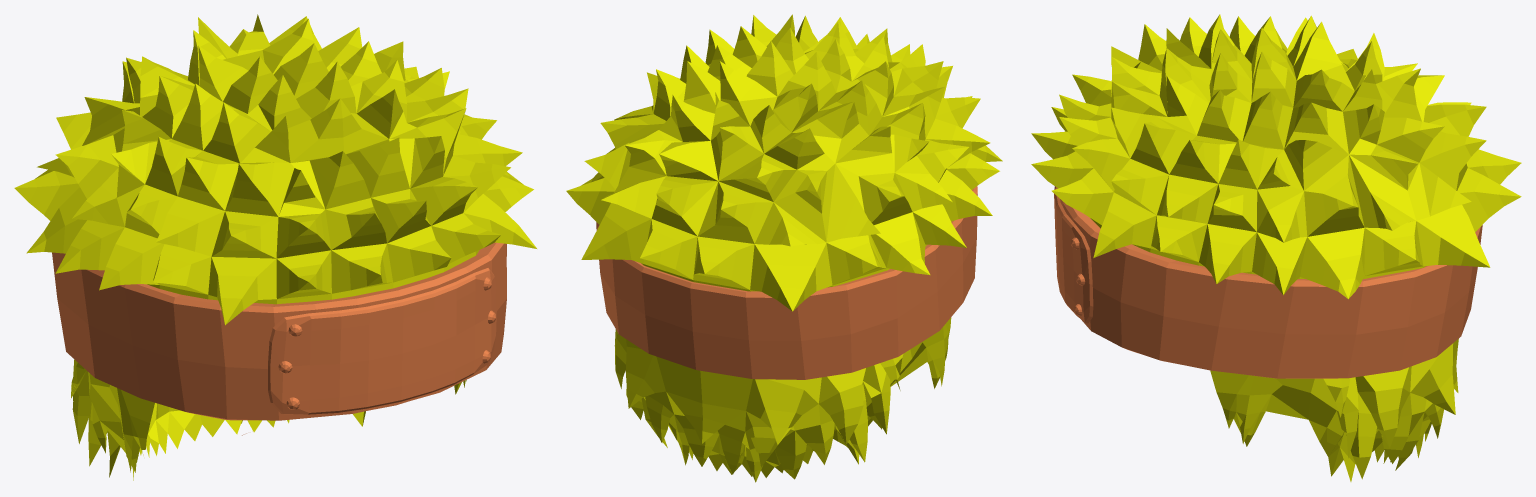
The model's file is naruto.fbx.
3 renders of one model, left to right at view 1: azimuth 30°, elevation 25°; view 2: azimuth 150°, elevation 25°; view 3: azimuth 270°, elevation 25°, orthographic. The views are drawn at different scales.
Parts seen in each view (by area): view 1: rambut, ikat_kepala; view 2: rambut, ikat_kepala; view 3: rambut, ikat_kepala.
Part boxes in pixels (x1,y1,x2,y2): rambut: (14,14,536,480); ikat_kepala: (52,242,506,435); rambut: (566,14,1002,482); ikat_kepala: (596,186,977,379); rambut: (1031,14,1521,481); ikat_kepala: (1054,186,1482,378).
Bounding box in the file's own units: 1658 × 1625 × 1794.
